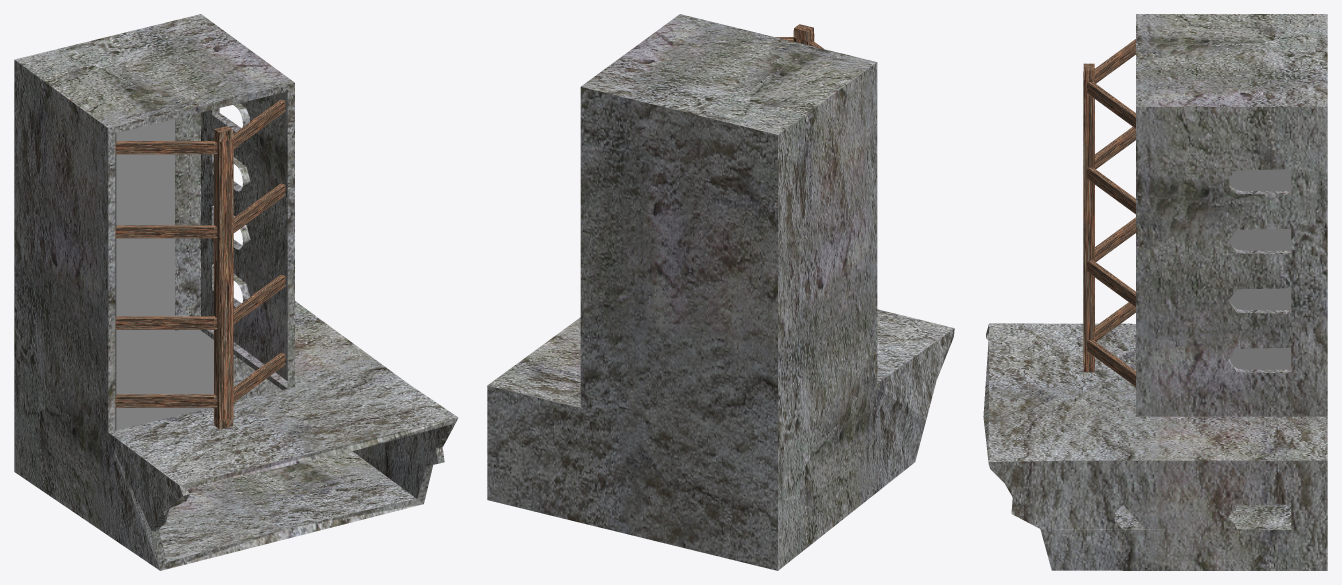
File: RuinedHouse584_wtf.obj
The picture shows the model from 3 angles, left to right: view 1: azimuth 30°, elevation 25°; view 2: azimuth 150°, elevation 25°; view 3: azimuth 270°, elevation 25°; orthographic projection. The views are drawn at different scales.
Visible parts, largest first — view 1: group2, group3; view 2: group2; view 3: group2, group3.
Part boxes in pixels (x1,y1,x2,y2): group2: [14, 14, 458, 570]; group3: [115, 99, 285, 429]; group2: [487, 14, 954, 570]; group2: [983, 14, 1327, 570]; group3: [1083, 39, 1135, 386].
Size of the model in its own units: 468 by 660 by 490.
